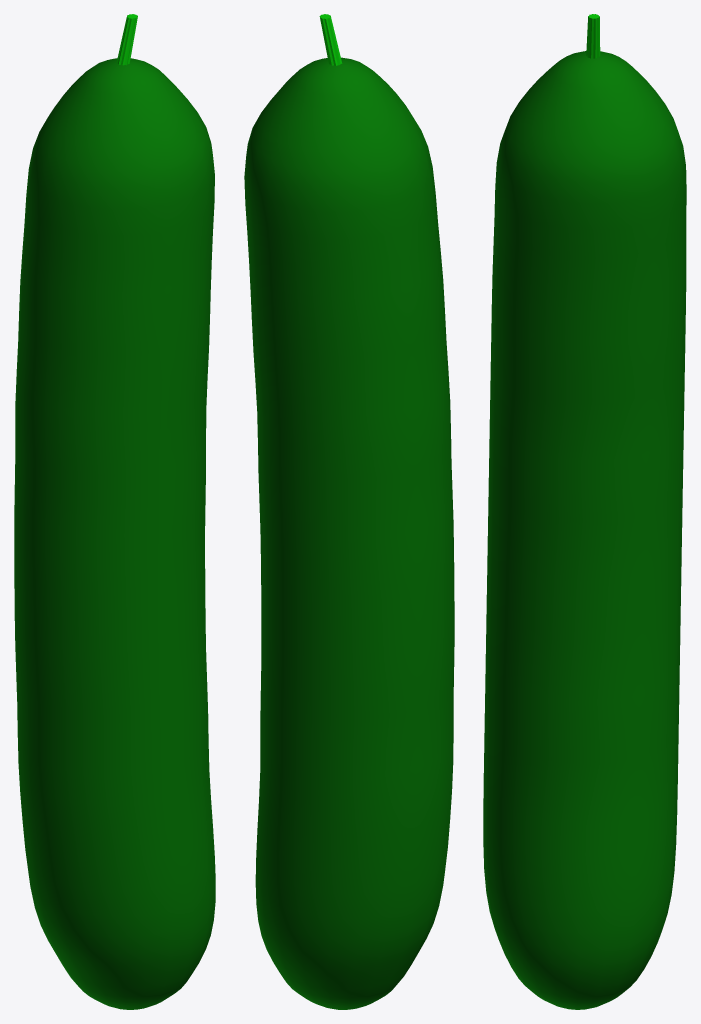
Rendered from salatalık.fbx.
The picture shows the model from 3 angles, left to right: view 1: azimuth 30°, elevation 25°; view 2: azimuth 150°, elevation 25°; view 3: azimuth 270°, elevation 25°; orthographic projection.
Visible parts, largest first — view 1: pCylinder1; view 2: pCylinder1; view 3: pCylinder1.
Boxes of the visible parts, x1,y1,x2,y2 form: pCylinder1: [14, 14, 215, 1009]; pCylinder1: [244, 14, 454, 1009]; pCylinder1: [483, 14, 686, 1009].
Size of the model in its own units: 2.84 by 14.78 by 2.75.
